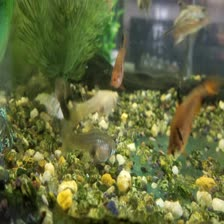Guppy: (56, 121, 125, 168), (64, 92, 126, 115)
Transparente: (165, 70, 220, 161), (106, 32, 135, 83)
